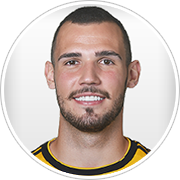smile: (69, 89, 109, 108)
